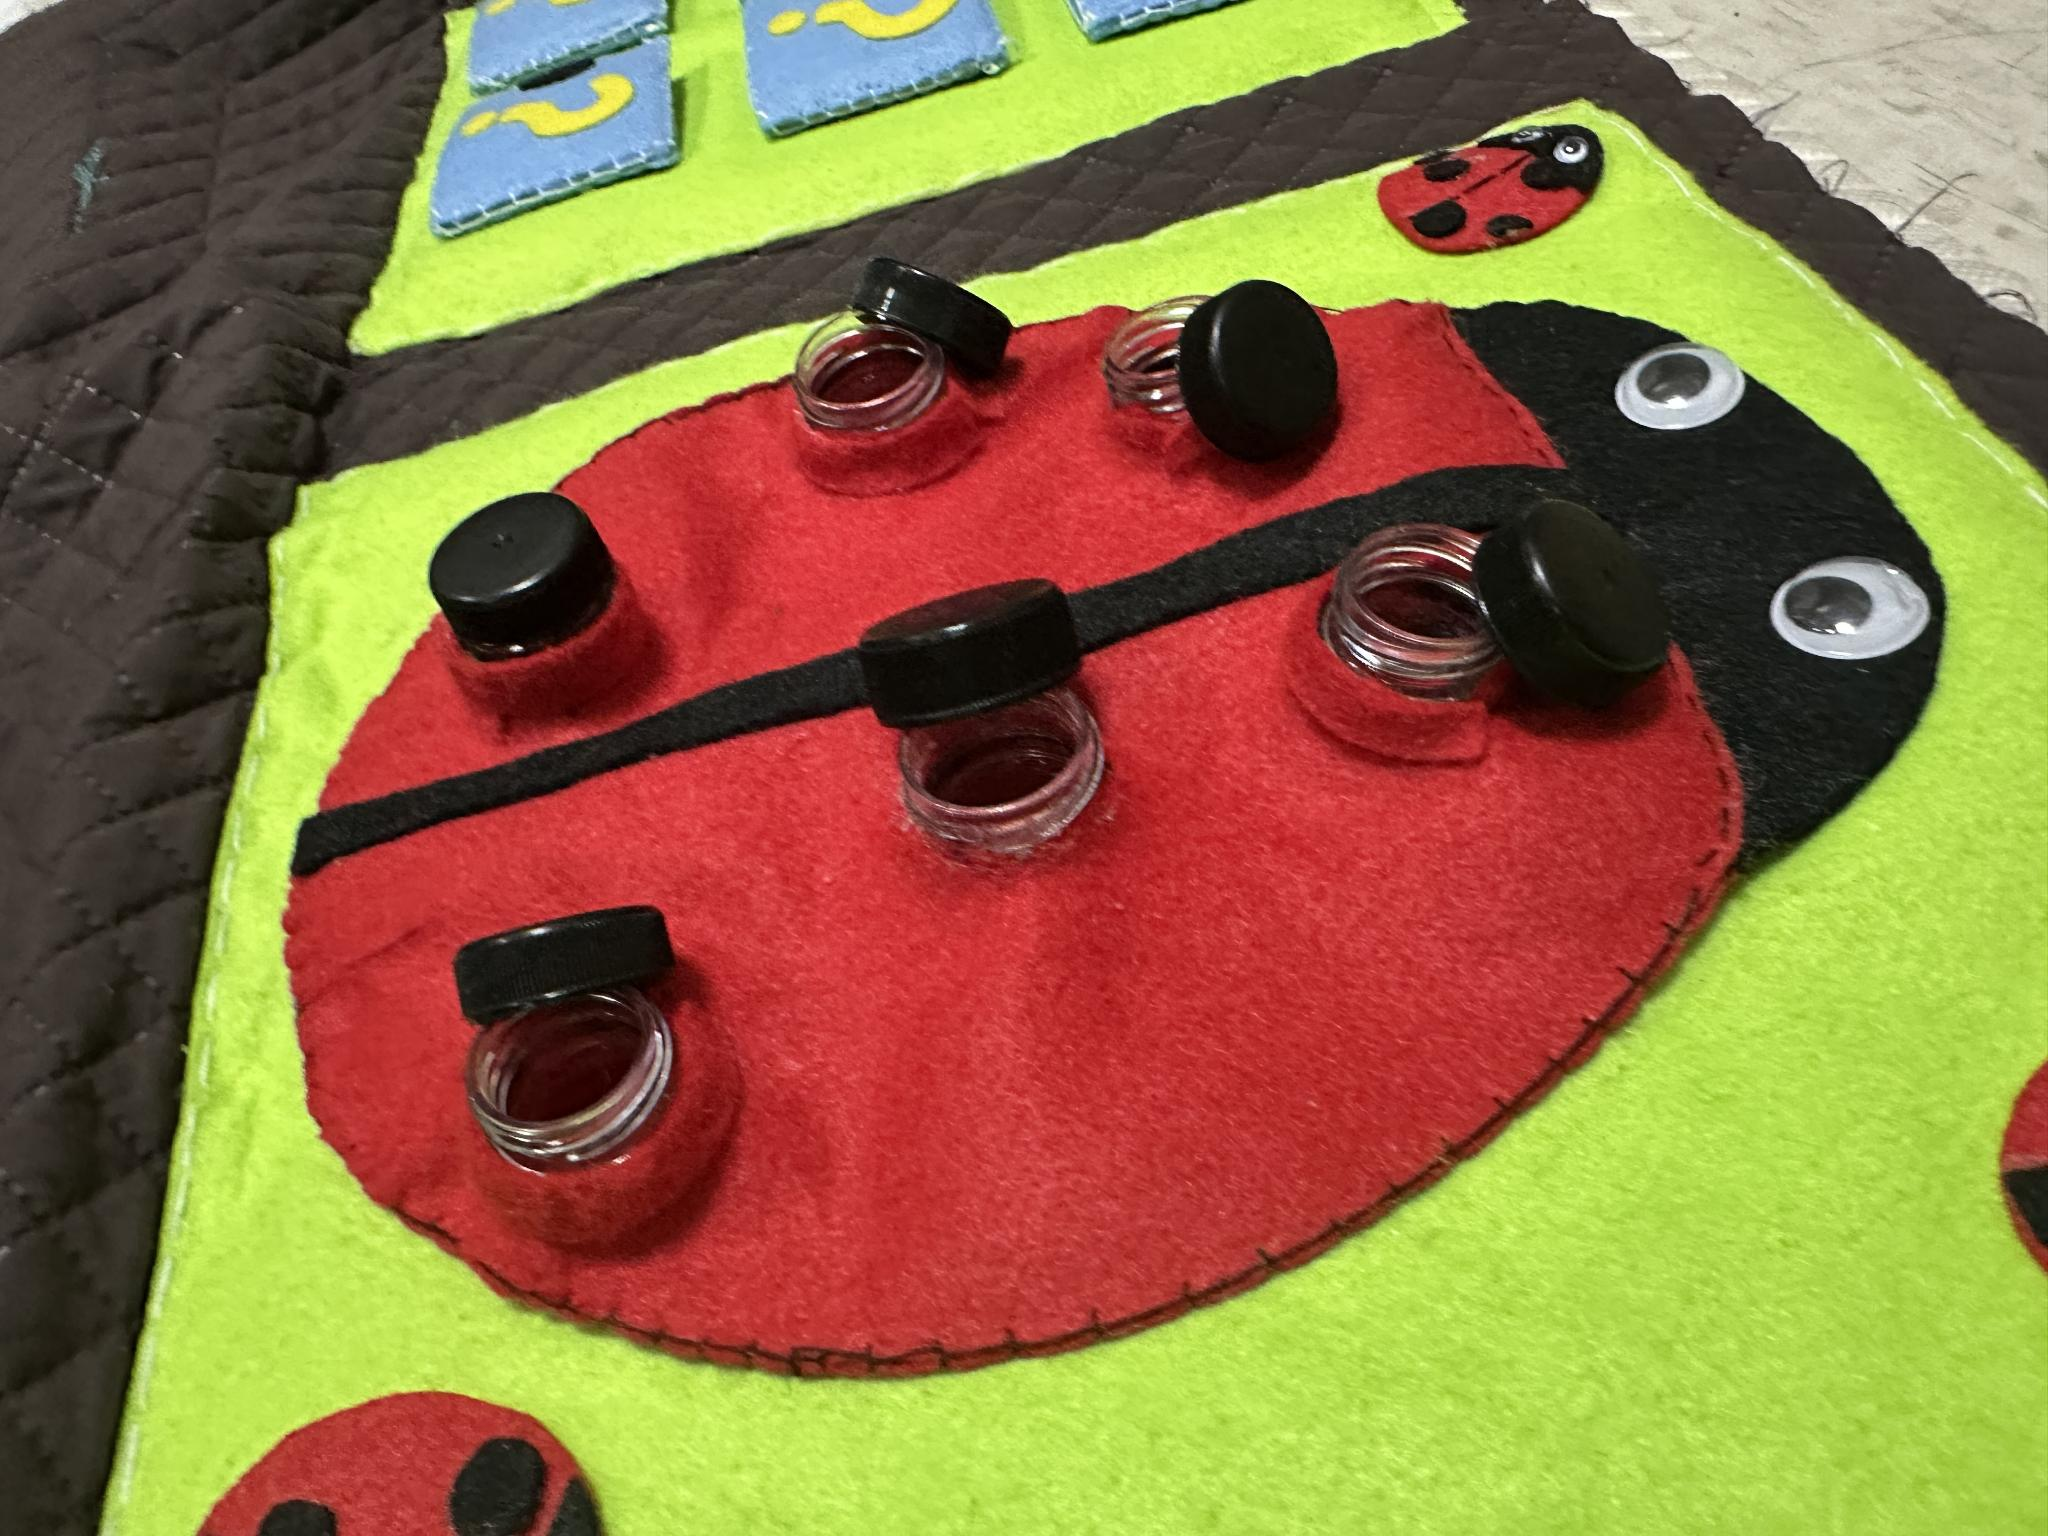cap_ng: (435, 894, 743, 1273), (1306, 499, 1687, 795), (851, 566, 1134, 868), (769, 260, 1056, 490), (1108, 274, 1363, 489)
cap_ok: (424, 481, 658, 728)
